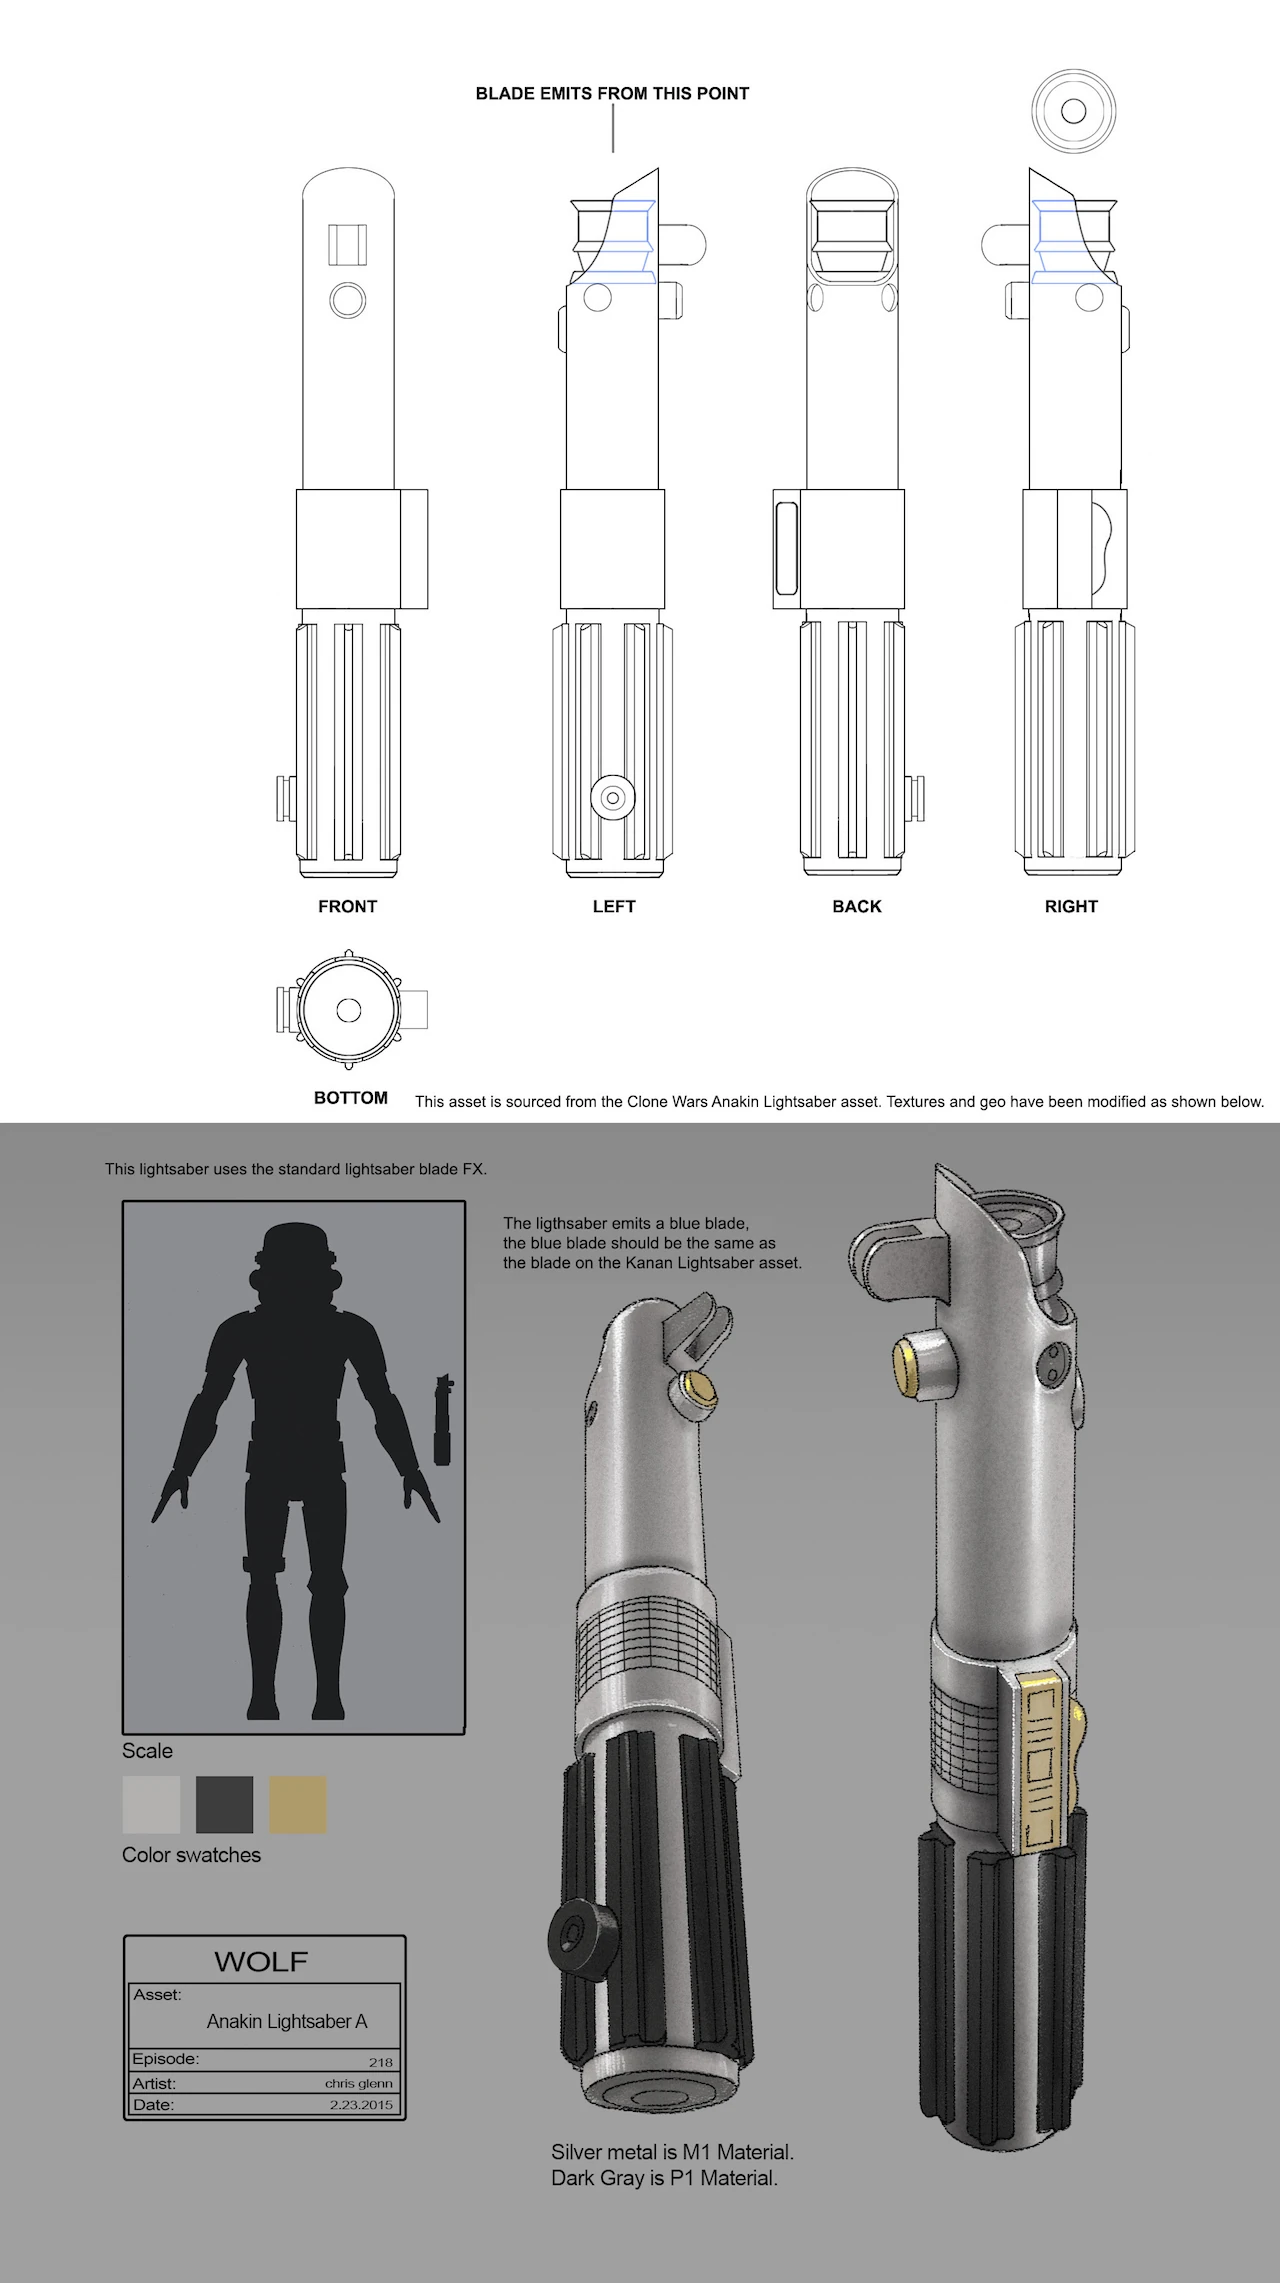Dalek: (836, 1146, 1112, 2178), (547, 1262, 778, 2139)
